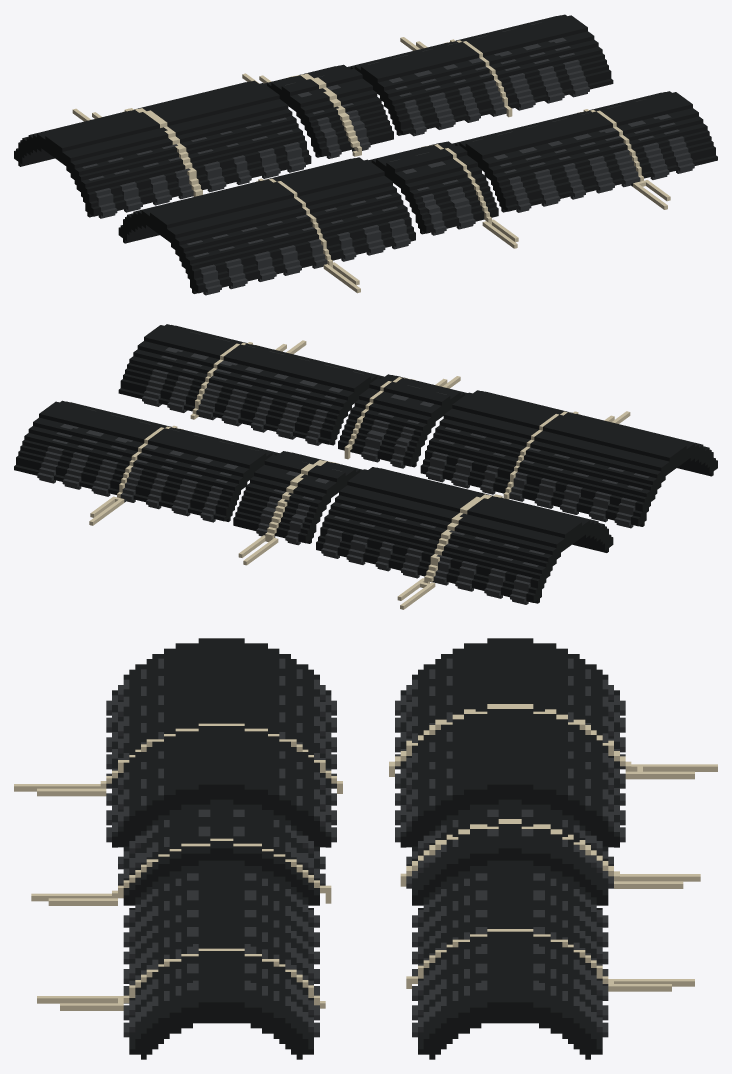
Rendered from leg_guards_tyre.glb.
3 renders of one model, top to bottom at view 1: azimuth 30°, elevation 25°; view 2: azimuth 150°, elevation 25°; view 3: azimuth 270°, elevation 25°, orthographic. The views are drawn at different scales.
Parts seen in each view (by area): view 1: leg_guards_tyre:compound; view 2: leg_guards_tyre:compound; view 3: leg_guards_tyre:compound.
Boxes of the visible parts, box(x1,y1,x2,y2) form: leg_guards_tyre:compound: box(14, 14, 717, 295); leg_guards_tyre:compound: box(14, 324, 717, 609); leg_guards_tyre:compound: box(14, 638, 717, 1059).
Bounding box in the file's own units: 0.58 × 0.052 × 0.488.
